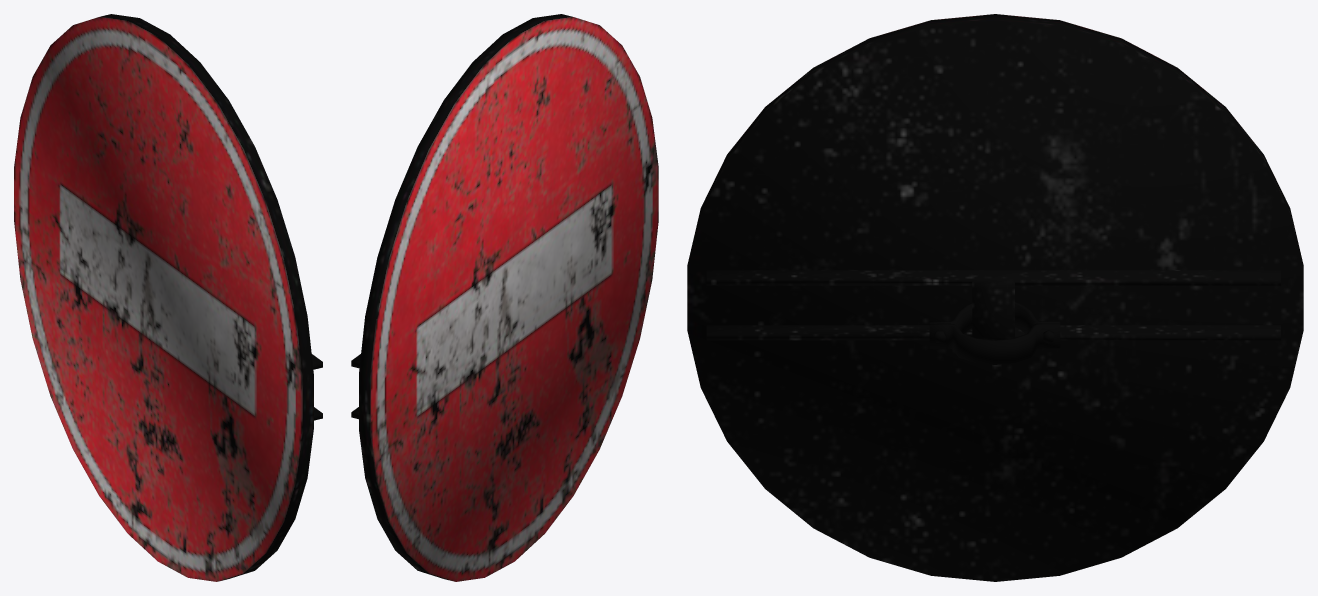
The model's file is stopsign.glb.
3 renders of one model, left to right at view 1: azimuth 30°, elevation 25°; view 2: azimuth 150°, elevation 25°; view 3: azimuth 270°, elevation 25°, orthographic. The views are drawn at different scales.
Parts seen in each view (by area): view 1: road_sign_stop_2_geometry; view 2: road_sign_stop_2_geometry; view 3: road_sign_stop_2_geometry.
Boxes of the visible parts, x1=… form: road_sign_stop_2_geometry: x1=14, y1=14, x2=322, y2=581; road_sign_stop_2_geometry: x1=351, y1=14, x2=658, y2=581; road_sign_stop_2_geometry: x1=687, y1=14, x2=1303, y2=581.
Size of the model in its own units: 0.1508 by 0.6954 by 0.6916.
Materials: 1 (1 with a texture image).
